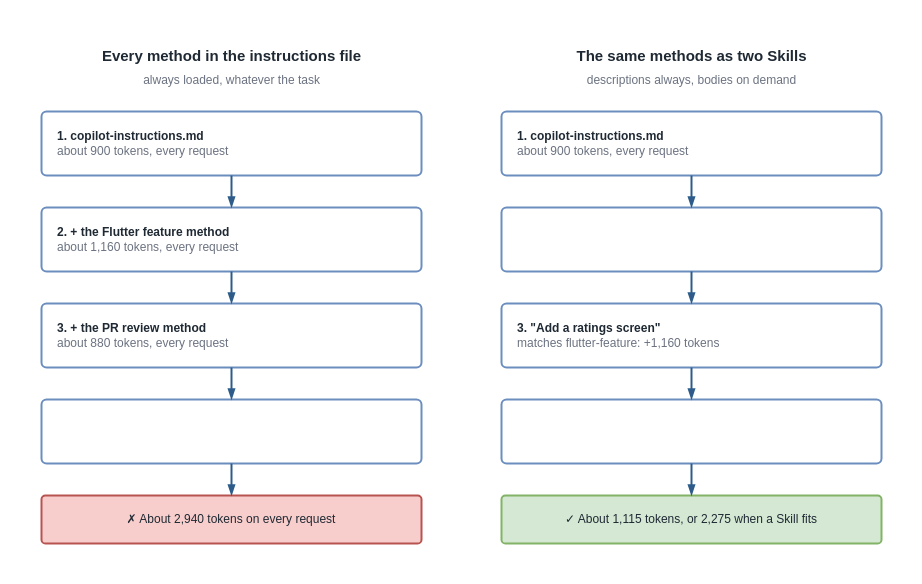
The diagram is 922 pixels wide and 584 high, and some of its shapes have lost their labels. Here are the shapes that lost their labels. From the top down, the box of each, then its label:
(500, 206, 882, 272): 2. Two Skill descriptions about 215 tokens, every request
(40, 398, 422, 464): 4. "Rename this variable" still pays for both methods
(500, 398, 882, 464): 4. "Rename this variable" matches nothing: +0 tokens
